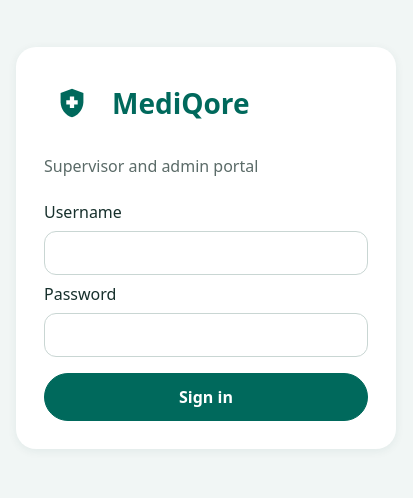
Test: login page › shows a clear message for wrong credentials
The image size is (413, 498).
Type "supervisor.demo" into the field labelled "Username" at (206, 253), box top-left (44, 231), bottom-right (368, 275)
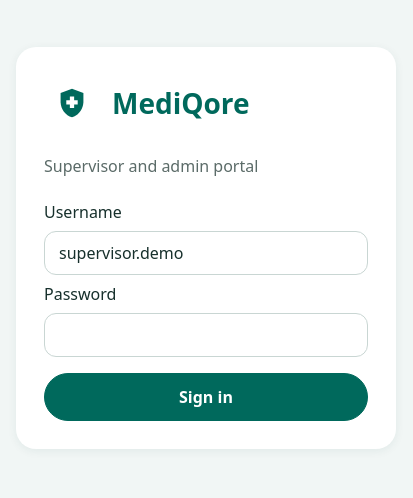
Type "wrong" into the password field labelled "Password" at (206, 335), box top-left (44, 313), bottom-right (368, 357)
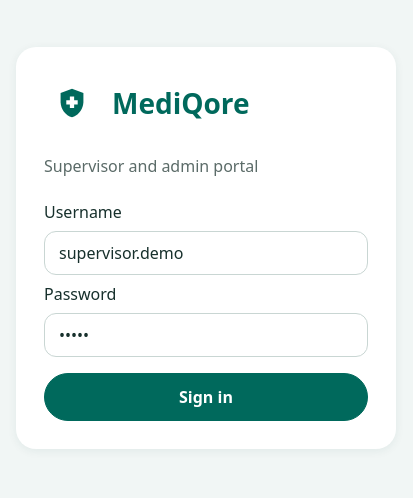
Click the button "Sign in" at (206, 397), box top-left (44, 373), bottom-right (368, 421)
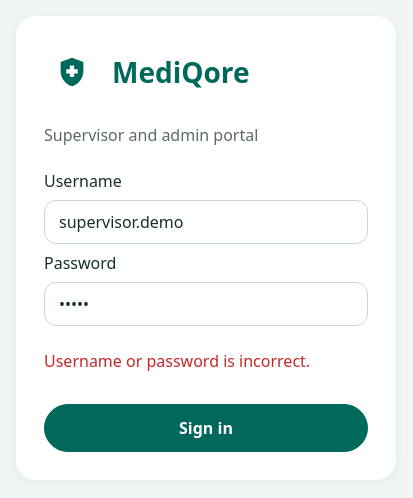
Result: the message reads "Username or password is incorrect." at top-left (44, 350), bottom-right (310, 372)
